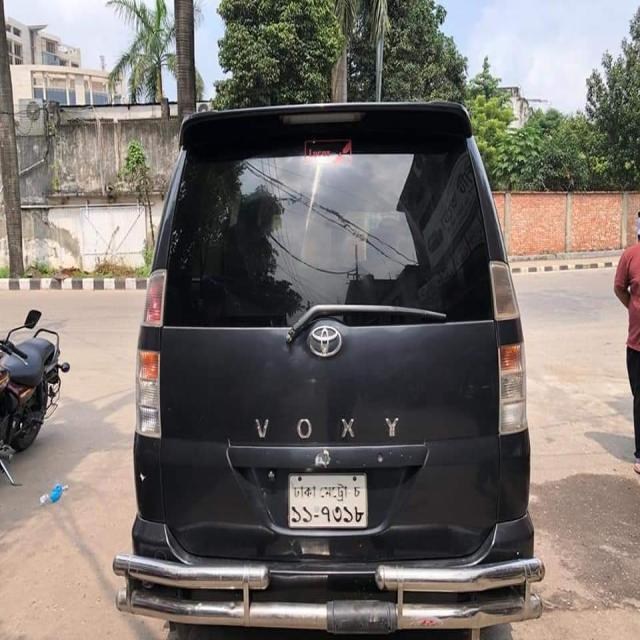black: (137, 79, 522, 632)
